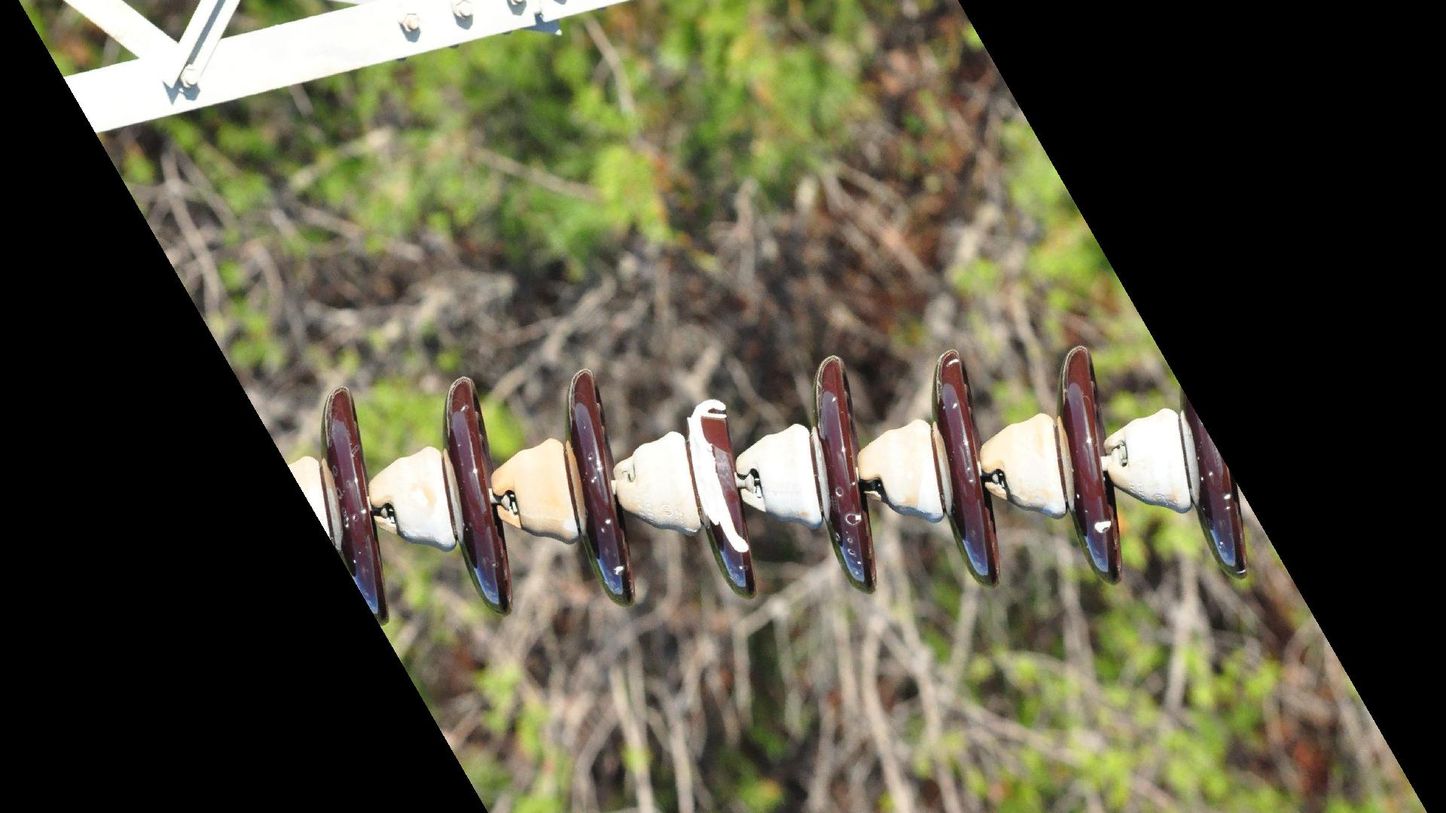insulator: (314, 336, 1259, 634)
insulator_breakage: (676, 389, 761, 566)
